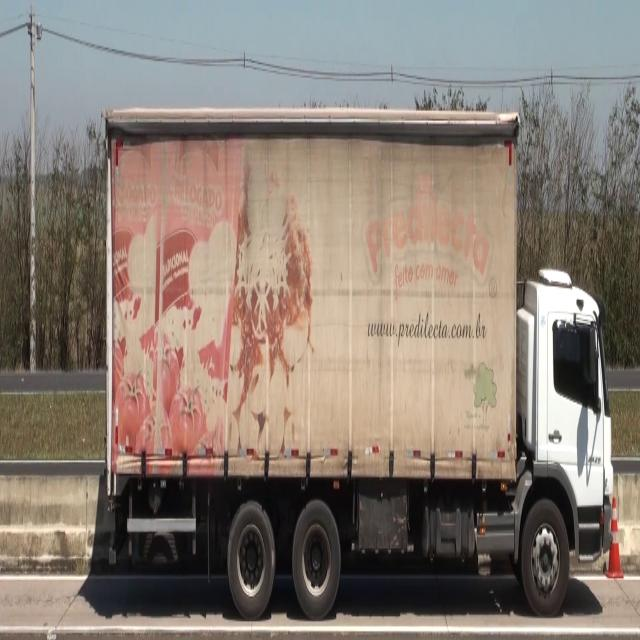-axle: (227, 498, 278, 614), (522, 500, 572, 618), (294, 500, 342, 620)
